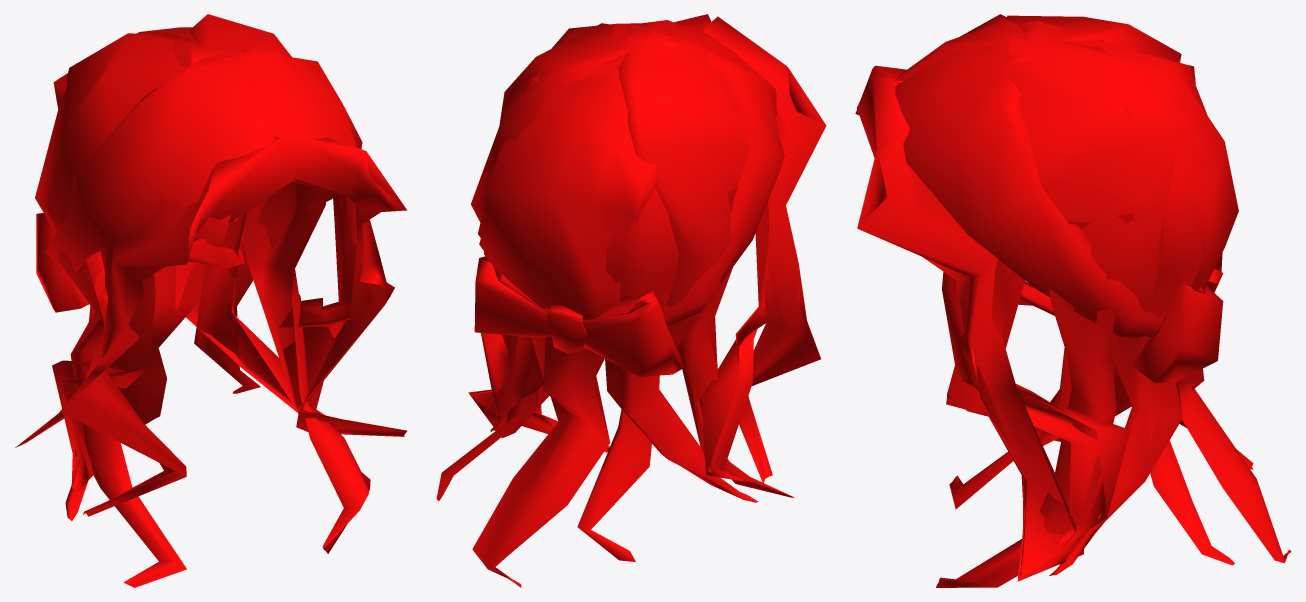
File: grinsegold_wig_bow_tie_M.glb
3 views of the same model, side by side, from view 1: azimuth 30°, elevation 25°; view 2: azimuth 150°, elevation 25°; view 3: azimuth 270°, elevation 25° (orthographic). The views are drawn at different scales.
Bounding box in the file's own units: 0.2489 × 0.3279 × 0.2484.
Materials: 1 (1 with a texture image).
